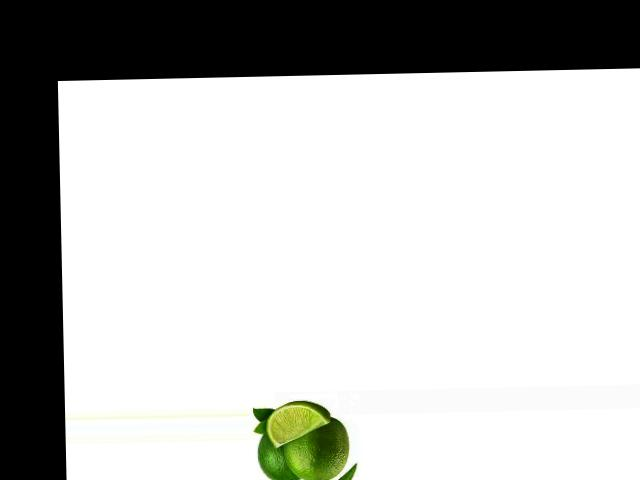lemon: (285, 419, 350, 480)
